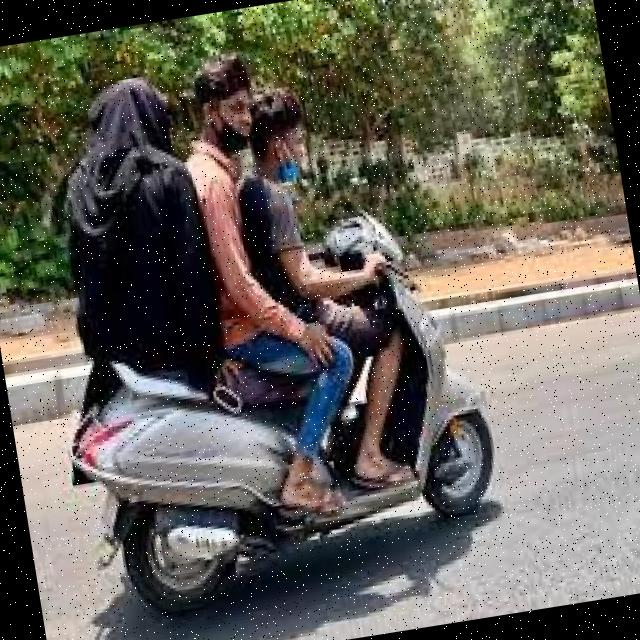No helmet: (240, 72, 324, 186)
Triple riding: (41, 24, 398, 474)
